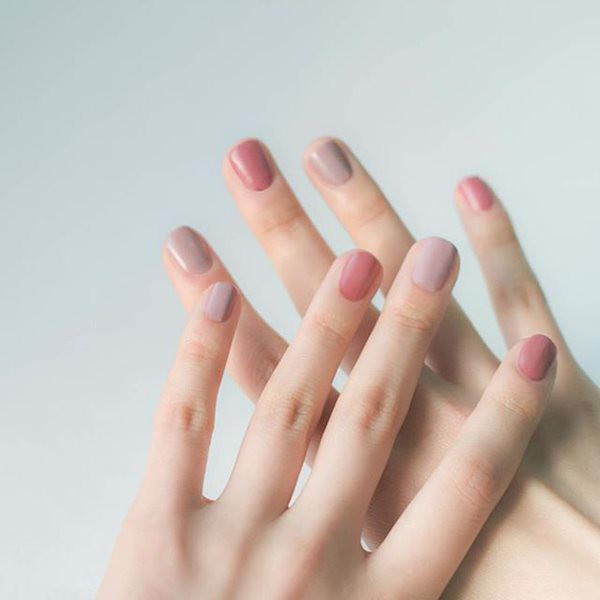nails: (507, 328, 563, 389), (334, 242, 385, 305), (165, 224, 222, 279), (408, 233, 457, 296), (227, 134, 278, 194), (302, 136, 353, 187), (455, 173, 499, 215), (203, 277, 237, 326)
